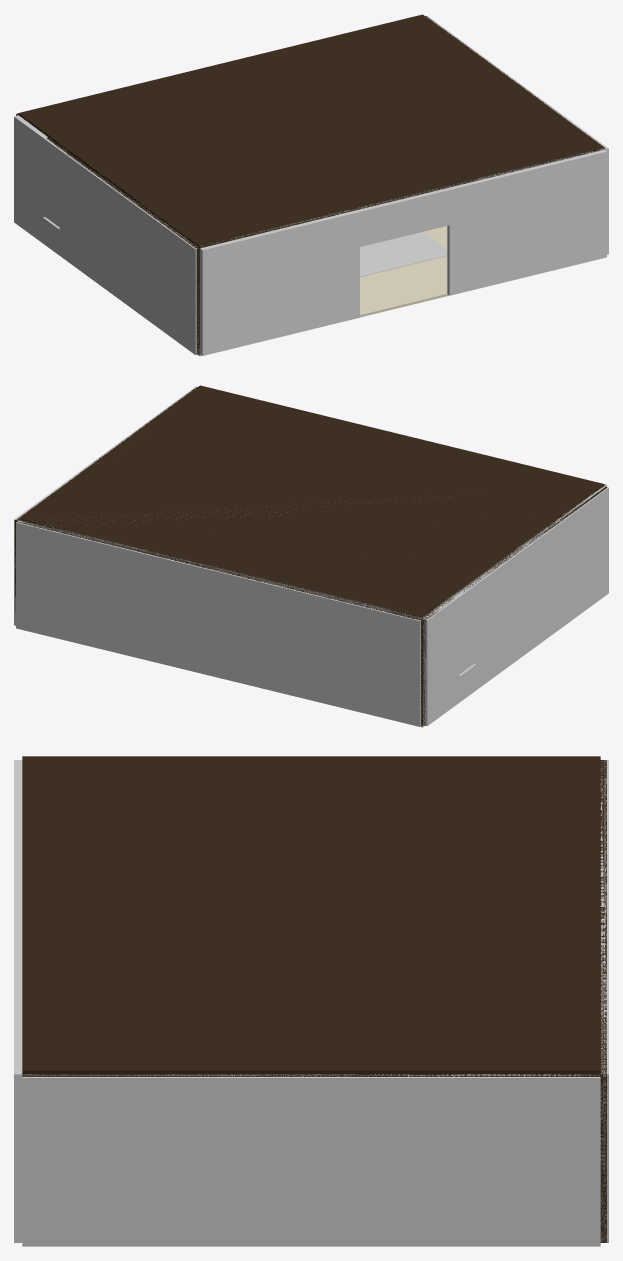
The model's file is env_shell_z2_salon.glb.
3 renders of one model, top to bottom at view 1: azimuth 30°, elevation 25°; view 2: azimuth 150°, elevation 25°; view 3: azimuth 270°, elevation 25°, orthographic. The views are drawn at different scales.
Visible parts, largest first — view 1: Z2_Ceiling.001, Z2_Wall_S_Seg_L, Z2_Wall_S_Seg_R, Z2_Wall_W_Seg_S, Z2_Floor.001, Z2_Wall_S_Lintel, Z2_Wall_W_Seg_N, Z2_DanceArea_MARK, Z2_Wall_W, Z2_Ceiling, Z2_Wall_W_Lintel, Z2_Wall_E (+1 smaller); view 2: Z2_Ceiling.001, Z2_Wall_N, Z2_Wall_W_Seg_S, Z2_Wall_W_Seg_N, Z2_Ceiling, Z2_Wall_N.001, Z2_Wall_W_Lintel, Z2_Wall_W, Z2_HiddenDoor_MARK, Z2_Wall_E; view 3: Z2_Ceiling.001, Z2_Wall_E, Z2_Wall_N.001, Z2_Wall_N, Z2_Wall_S_Seg_R, Z2_Wall_E.001, Z2_Wall_S_Seg_L.
Part boxes in pixels (x1=…): Z2_Ceiling.001: x1=18, y1=14, x2=604, y2=248; Z2_Wall_S_Seg_L: x1=200, y1=210, x2=359, y2=355; Z2_Wall_S_Seg_R: x1=447, y1=149, x2=606, y2=295; Z2_Wall_W_Seg_S: x1=56, y1=147, x2=199, y2=355; Z2_Floor.001: x1=198, y1=226, x2=448, y2=356; Z2_Wall_S_Lintel: x1=358, y1=188, x2=449, y2=246; Z2_Wall_W_Seg_N: x1=14, y1=115, x2=47, y2=243; Z2_DanceArea_MARK: x1=360, y1=232, x2=447, y2=276; Z2_Wall_W: x1=46, y1=137, x2=199, y2=354; Z2_Ceiling: x1=18, y1=114, x2=604, y2=246; Z2_Wall_W_Lintel: x1=44, y1=138, x2=57, y2=203; Z2_Wall_E: x1=425, y1=15, x2=608, y2=254; Z2_Ceiling.001: x1=18, y1=385, x2=604, y2=618; Z2_Wall_N: x1=16, y1=520, x2=421, y2=726; Z2_Wall_W_Seg_S: x1=466, y1=486, x2=608, y2=694; Z2_Wall_W_Seg_N: x1=423, y1=597, x2=457, y2=726; Z2_Ceiling: x1=18, y1=486, x2=604, y2=619; Z2_Wall_N.001: x1=17, y1=521, x2=422, y2=725; Z2_Wall_W_Lintel: x1=453, y1=588, x2=470, y2=654; Z2_Wall_W: x1=423, y1=486, x2=607, y2=725; Z2_HiddenDoor_MARK: x1=457, y1=646, x2=470, y2=703; Z2_Wall_E: x1=14, y1=386, x2=196, y2=625; Z2_Ceiling.001: x1=22, y1=756, x2=600, y2=1074; Z2_Wall_E: x1=22, y1=1074, x2=600, y2=1246; Z2_Wall_N.001: x1=600, y1=760, x2=606, y2=1242; Z2_Wall_N: x1=600, y1=760, x2=608, y2=1242; Z2_Wall_S_Seg_R: x1=14, y1=952, x2=22, y2=1242; Z2_Wall_E.001: x1=22, y1=1074, x2=600, y2=1076; Z2_Wall_S_Seg_L: x1=14, y1=760, x2=22, y2=882.
Bounding box in the file's own units: 18.5 × 4.7 × 14.4.
